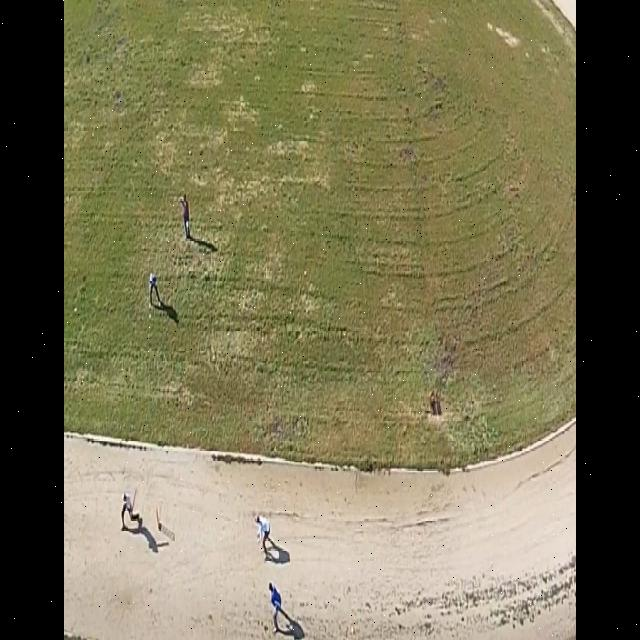humans: (253, 510, 279, 567), (267, 580, 294, 634), (118, 486, 144, 536), (179, 184, 191, 248), (146, 268, 163, 312)
